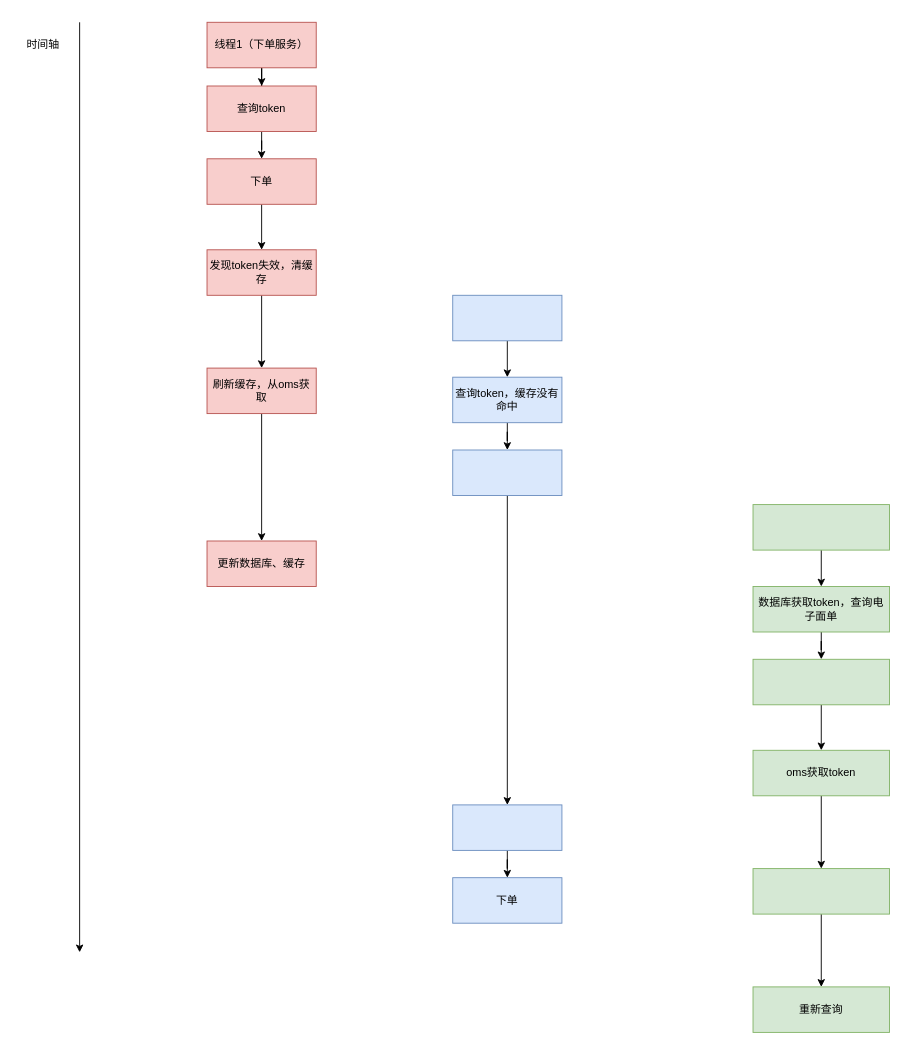
Some shapes in this 905 by 1048 pixel diagram are drawn without their labels. Each missing label, with the centre of its shape:
token失效: [821,681]
从oms获取token: [507,472]
写入缓存: [507,827]
更新数据库，更新缓存: [821,891]
线程2（下单服务）: [507,317]
线程3（获取电子面单）: [821,527]
